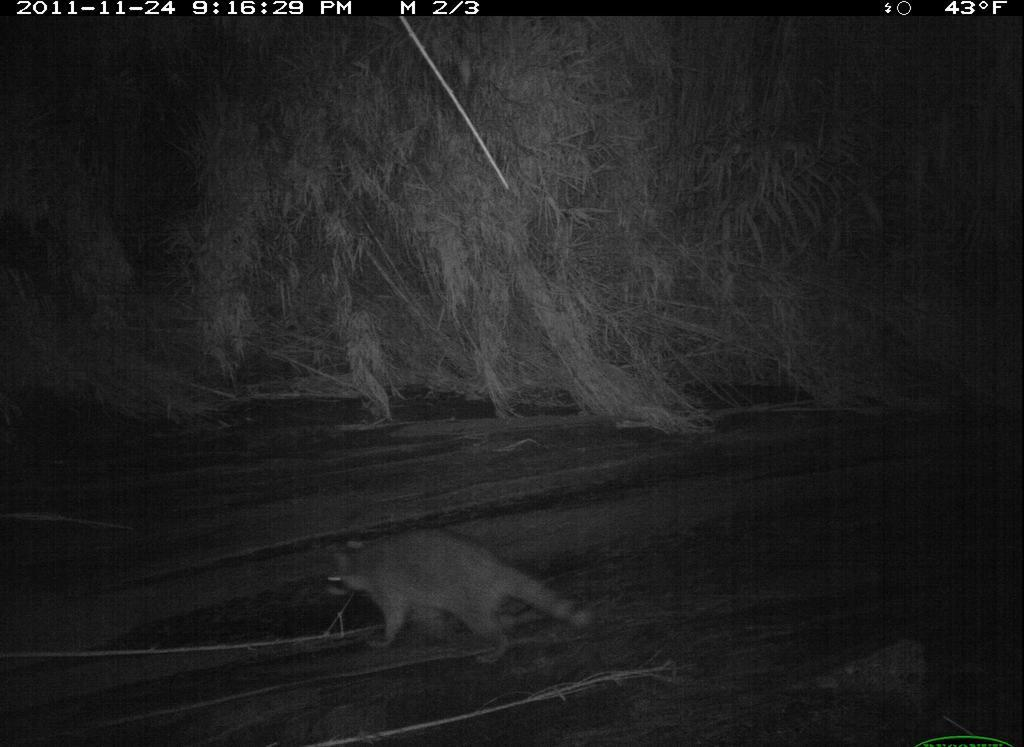raccoon: (317, 518, 601, 678)
